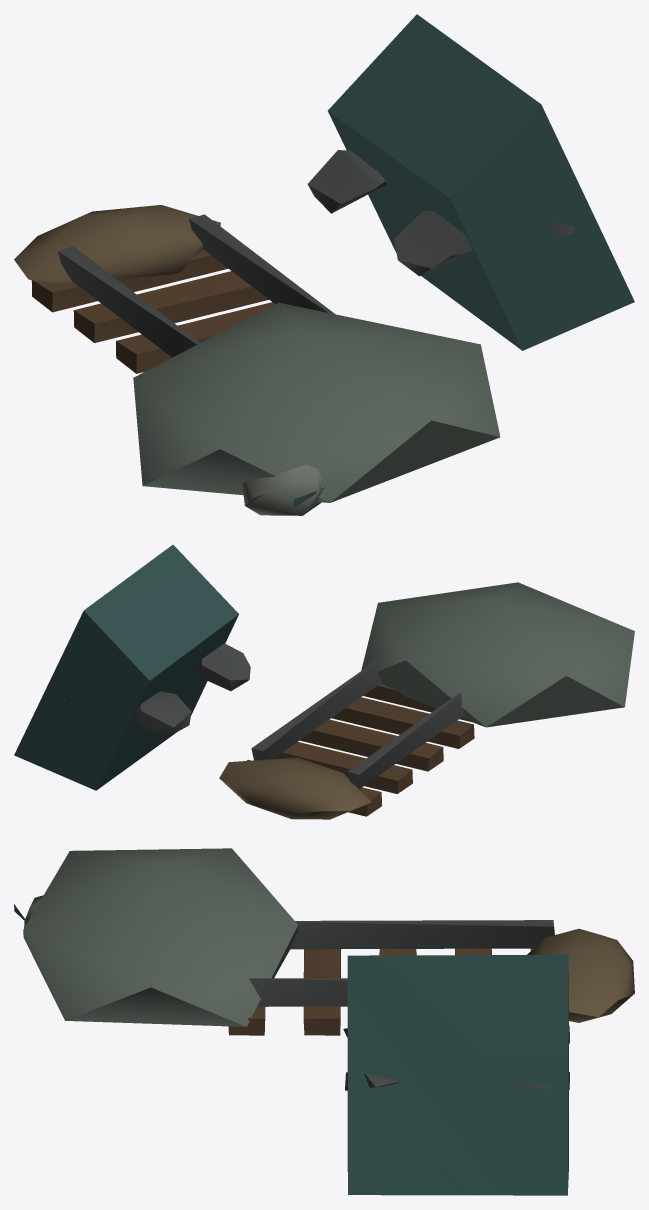
Rendered from ore_cart_stub_b_lod2.glb.
The picture shows the model from 3 angles, top to bottom: view 1: azimuth 30°, elevation 25°; view 2: azimuth 150°, elevation 25°; view 3: azimuth 270°, elevation 25°; orthographic projection. The views are drawn at different scales.
Visible parts, largest first — view 1: Surface.001; view 2: Surface.001; view 3: Surface.001.
Boxes of the visible parts, x1,y1,x2,y2 form: Surface.001: [14, 14, 634, 515]; Surface.001: [14, 545, 634, 819]; Surface.001: [14, 848, 634, 1195].
Size of the model in its own units: 4.14 by 1.59 by 4.11.
